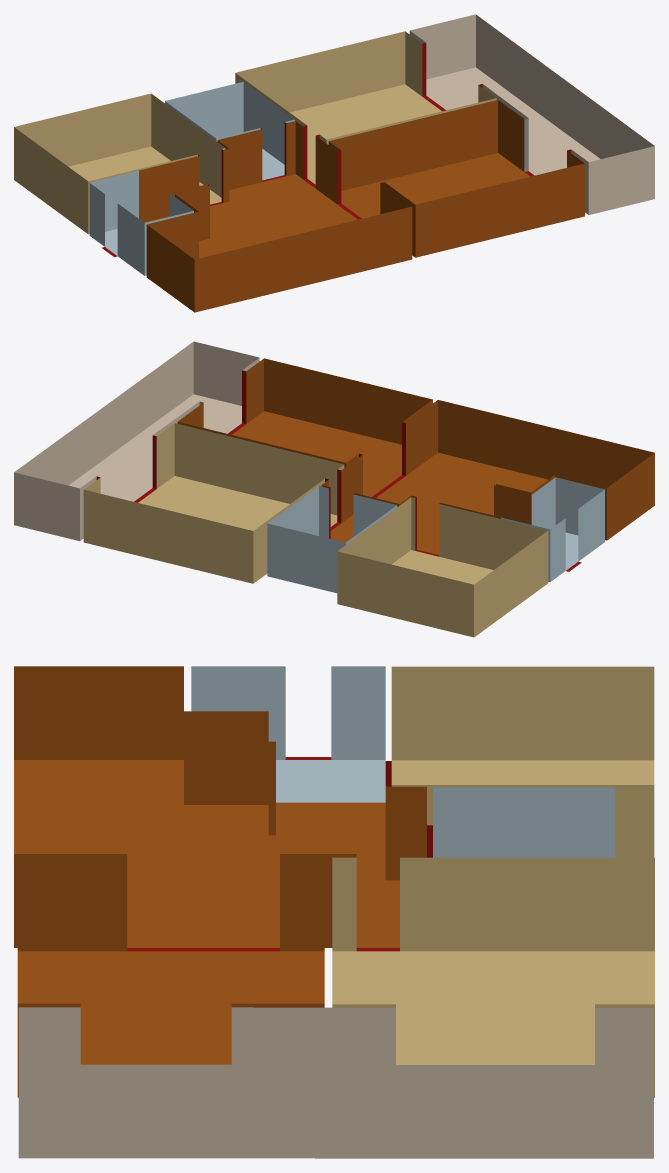
File: home.FBX
The picture shows the model from 3 angles, top to bottom: view 1: azimuth 30°, elevation 25°; view 2: azimuth 150°, elevation 25°; view 3: azimuth 270°, elevation 25°; orthographic projection. The views are drawn at different scales.
Visible parts, largest first — view 1: Plane002; view 2: Plane002; view 3: Plane002.
Boxes of the visible parts, x1=… form: Plane002: x1=14, y1=14, x2=654, y2=312; Plane002: x1=14, y1=341, x2=654, y2=637; Plane002: x1=14, y1=666, x2=654, y2=1158.
Bounding box in the file's own units: 616 × 67.03 × 415.
